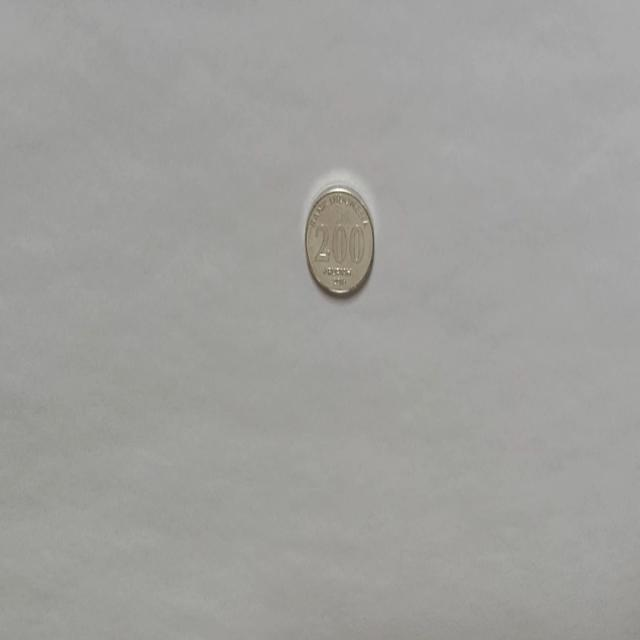dua ratus rupiah: (304, 184, 374, 298)
